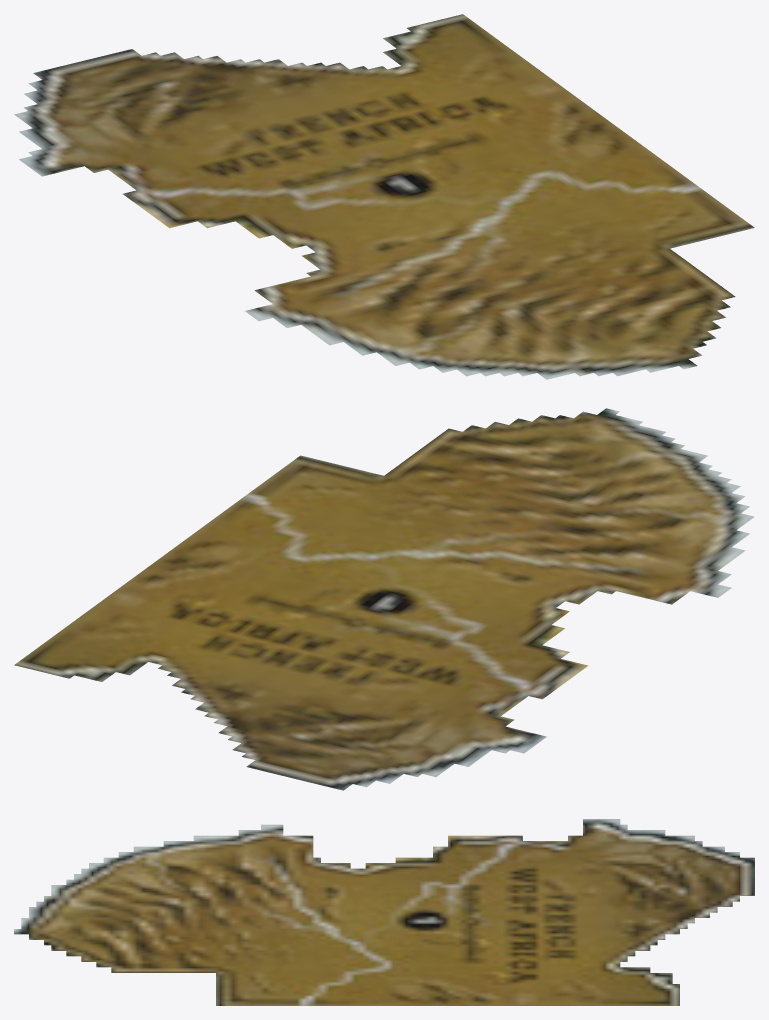
The model's file is french-west-africa.gltf.
3 renders of one model, top to bottom at view 1: azimuth 30°, elevation 25°; view 2: azimuth 150°, elevation 25°; view 3: azimuth 270°, elevation 25°, orthographic. The views are drawn at different scales.
Visible parts, largest first — view 1: Plane; view 2: Plane; view 3: Plane.
Boxes of the visible parts, <box> form: Plane: <box>14,14,754,379</box>; Plane: <box>14,408,754,790</box>; Plane: <box>14,819,754,1005</box>.
Bounding box in the file's own units: 0.3357 × 0 × 0.5622.
Materials: 1 (1 with a texture image).
